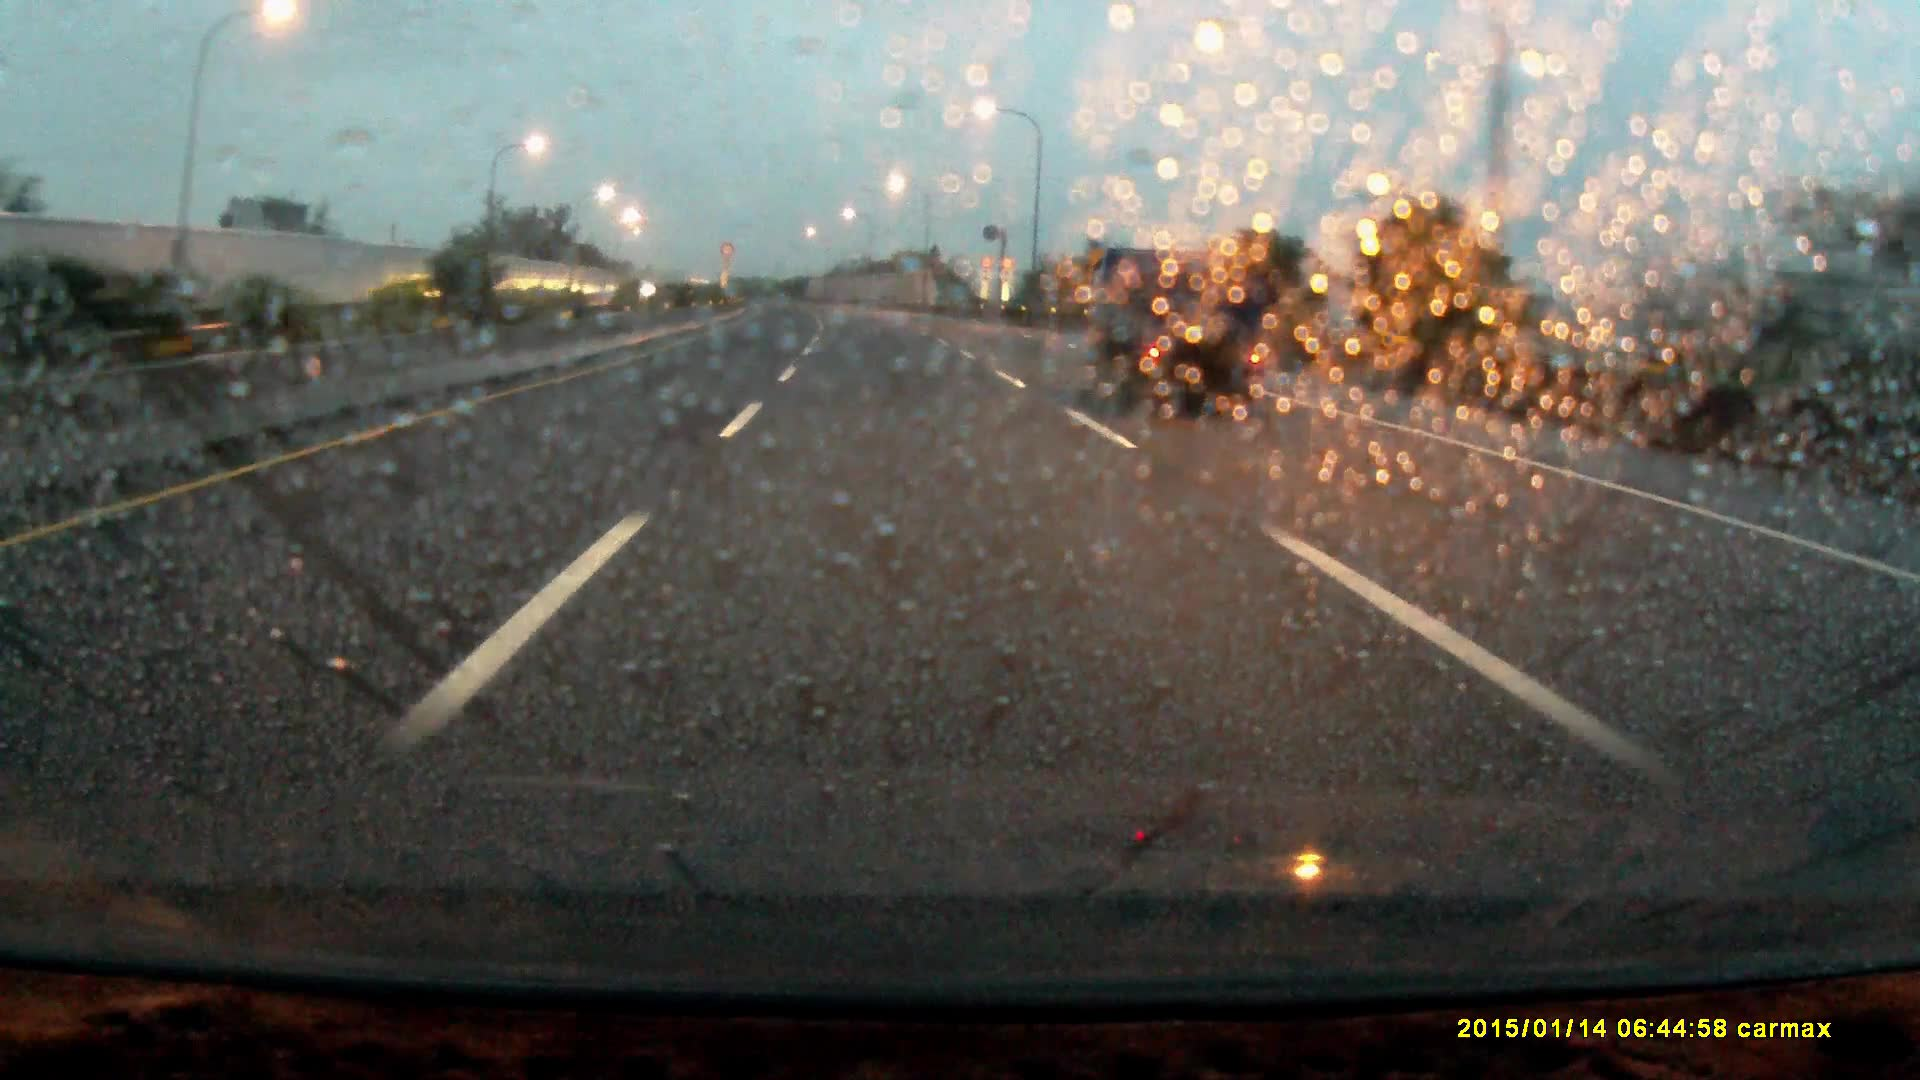vehicle: (1079, 245, 1263, 411)
